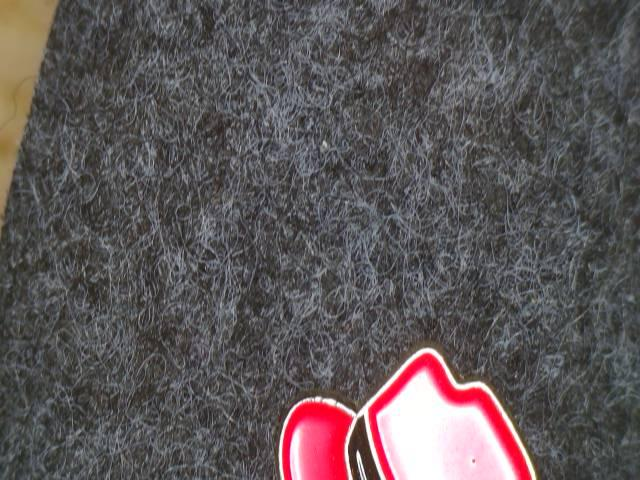Red-Hat: (249, 320, 559, 480)
